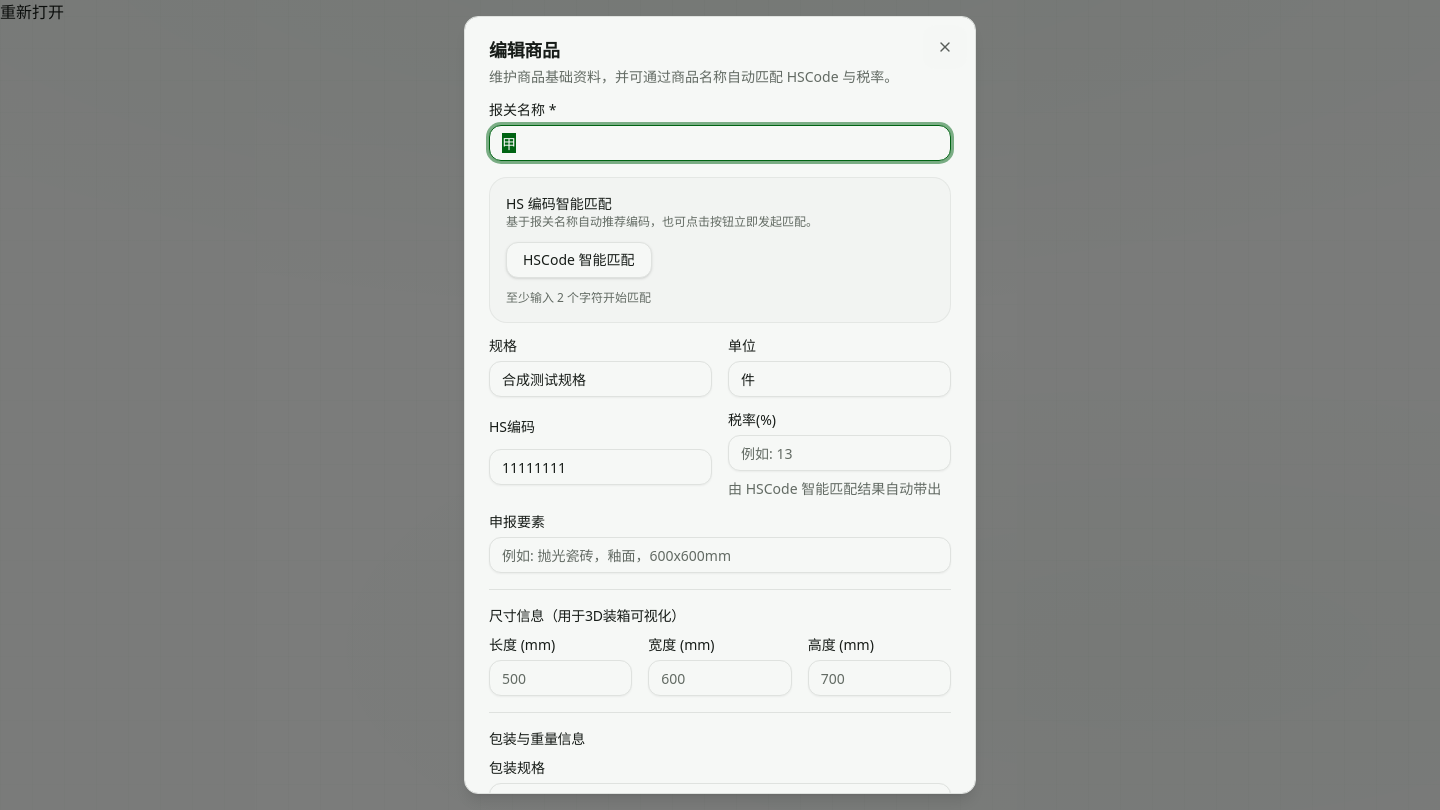
Scenario: ProductDialog 编辑会话 › 连续选不同 HS 建议时，后选编码优先于迟到的旧详情
Step 1. Replace the text in the field labelled "报关名称 *" with "合成商品" → (720, 143), box 489,125 -> 951,161
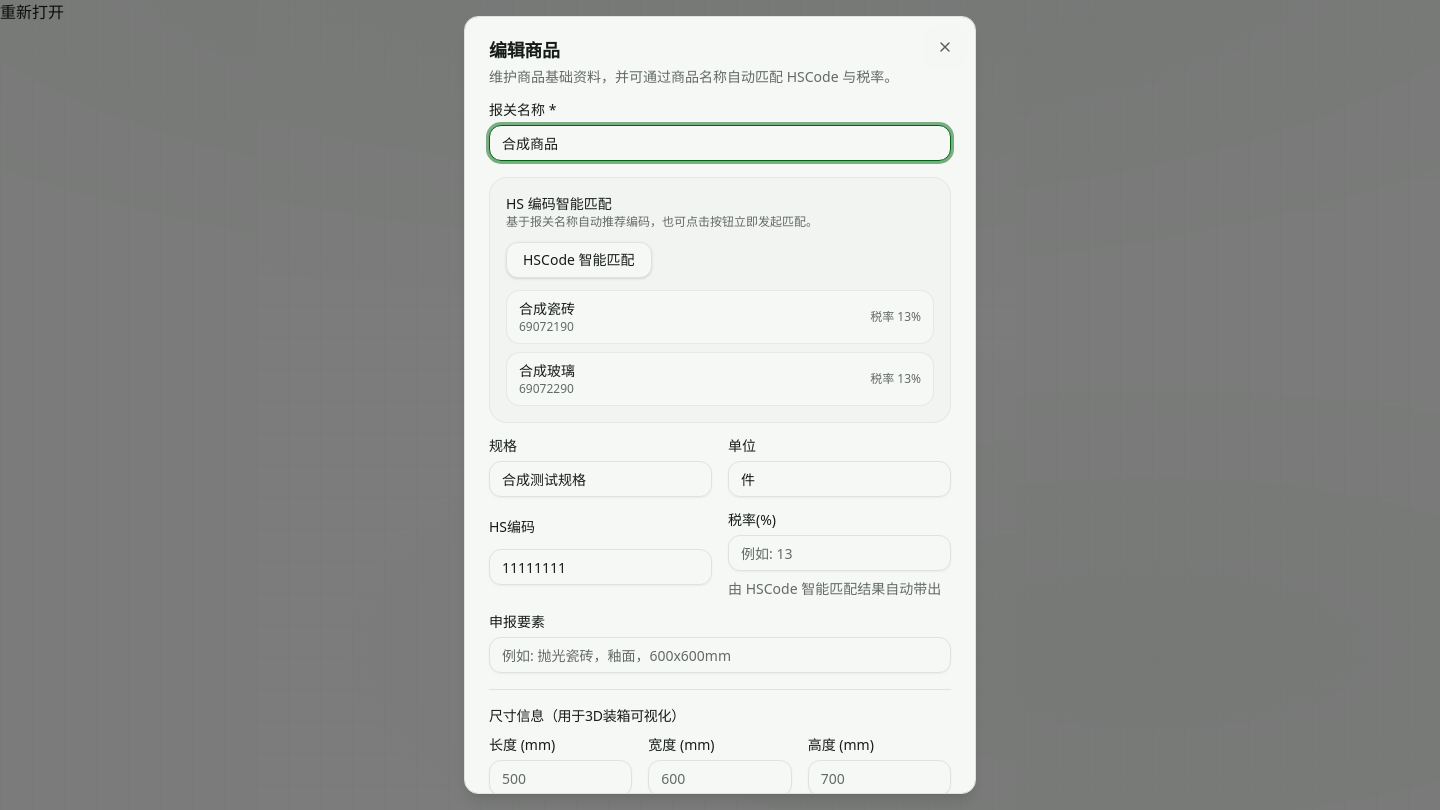
Step 2. Click the button "合成瓷砖 69072190 税率 13%" → (547, 308), box 506,290 -> 934,344
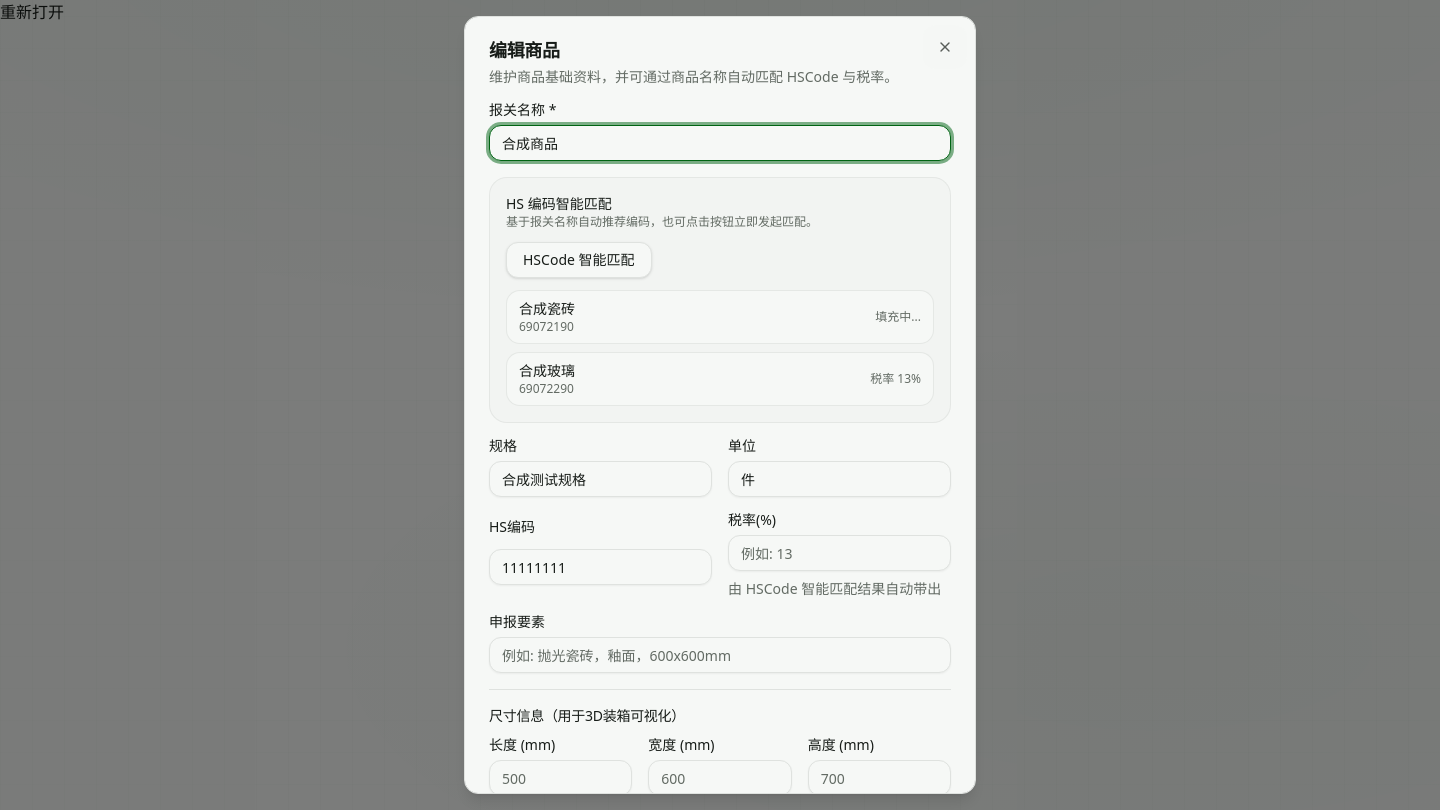
Step 3. Click the button "合成玻璃 69072290 税率 13%" → (547, 370), box 506,352 -> 934,406
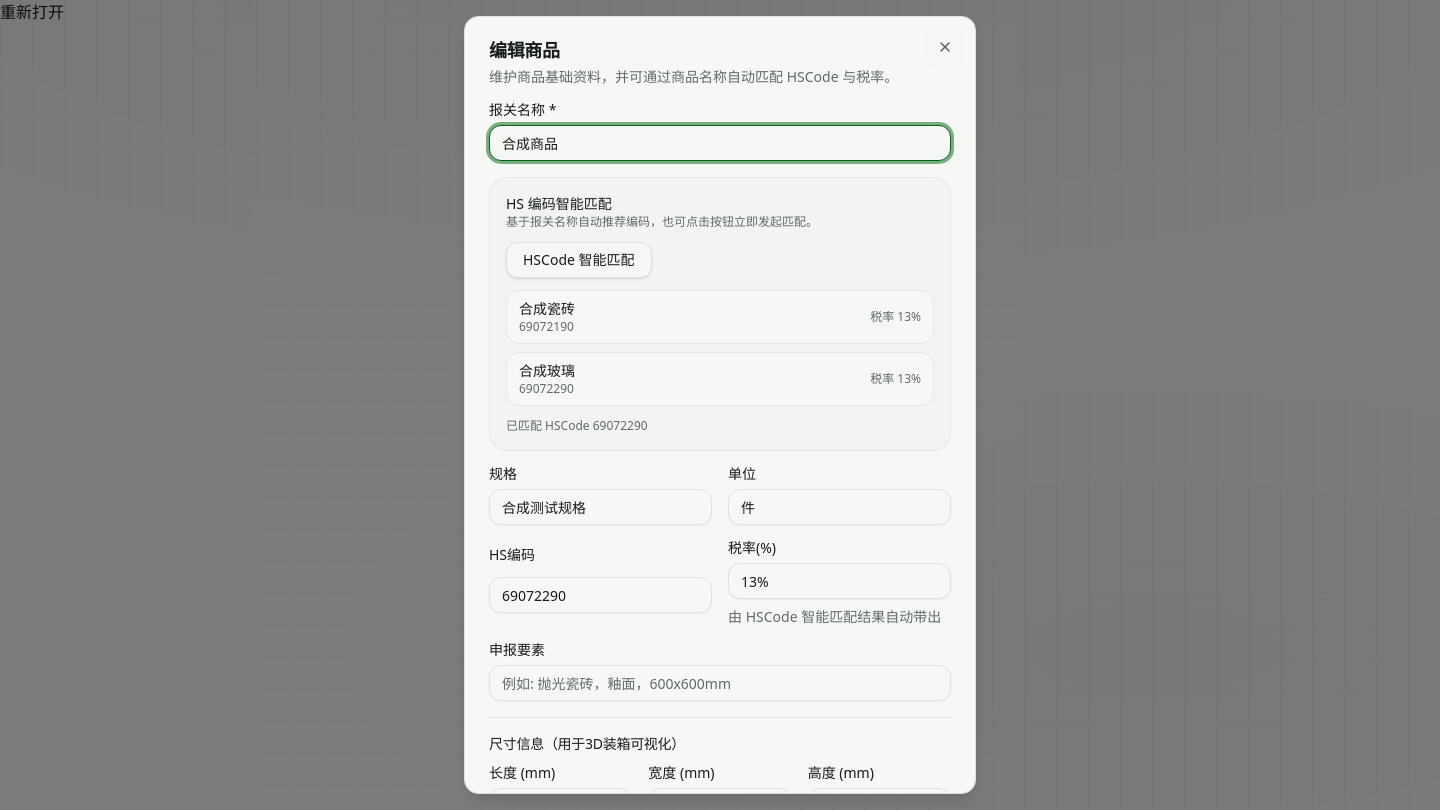
Expected: the field labelled "HS编码" holds "69072290", 489,577 -> 712,613
